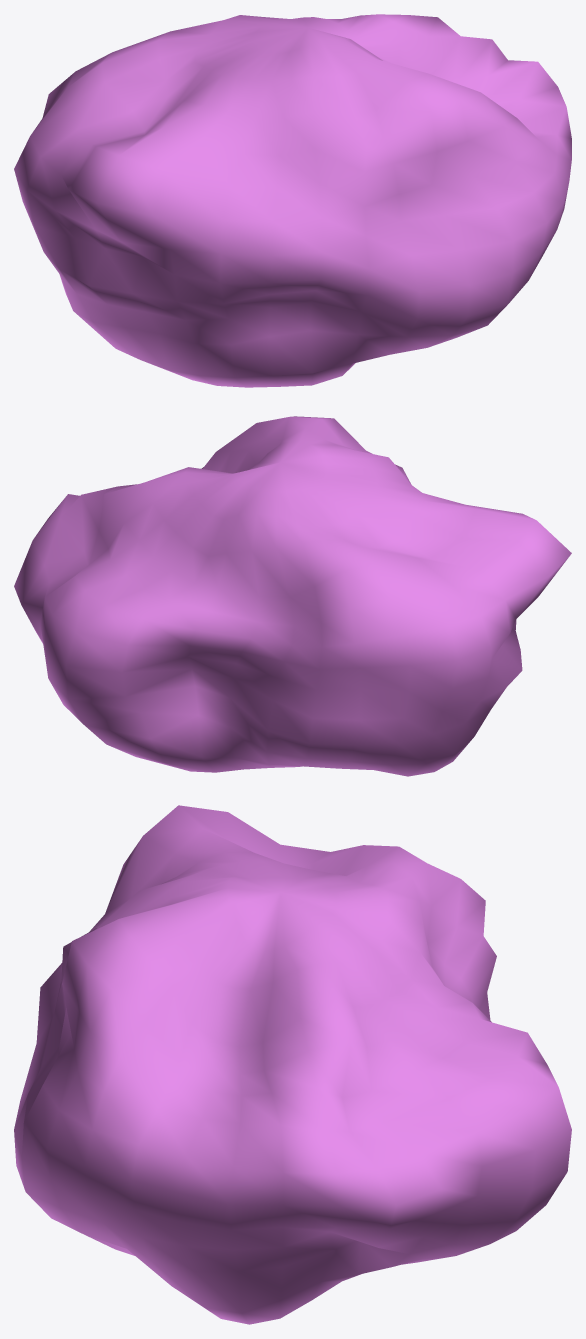
File: gumChewed2.fbx
The picture shows the model from 3 angles, top to bottom: view 1: azimuth 30°, elevation 25°; view 2: azimuth 150°, elevation 25°; view 3: azimuth 270°, elevation 25°; orthographic projection. The views are drawn at different scales.
Visible parts, largest first — view 1: gumChewed2; view 2: gumChewed2; view 3: gumChewed2.
Boxes of the visible parts, left/top/right/bottom form: gumChewed2: left=14, top=14, right=571, bottom=387; gumChewed2: left=14, top=416, right=571, bottom=776; gumChewed2: left=14, top=805, right=571, bottom=1324.
Bounding box in the file's own units: 165 × 95.47 × 134.
